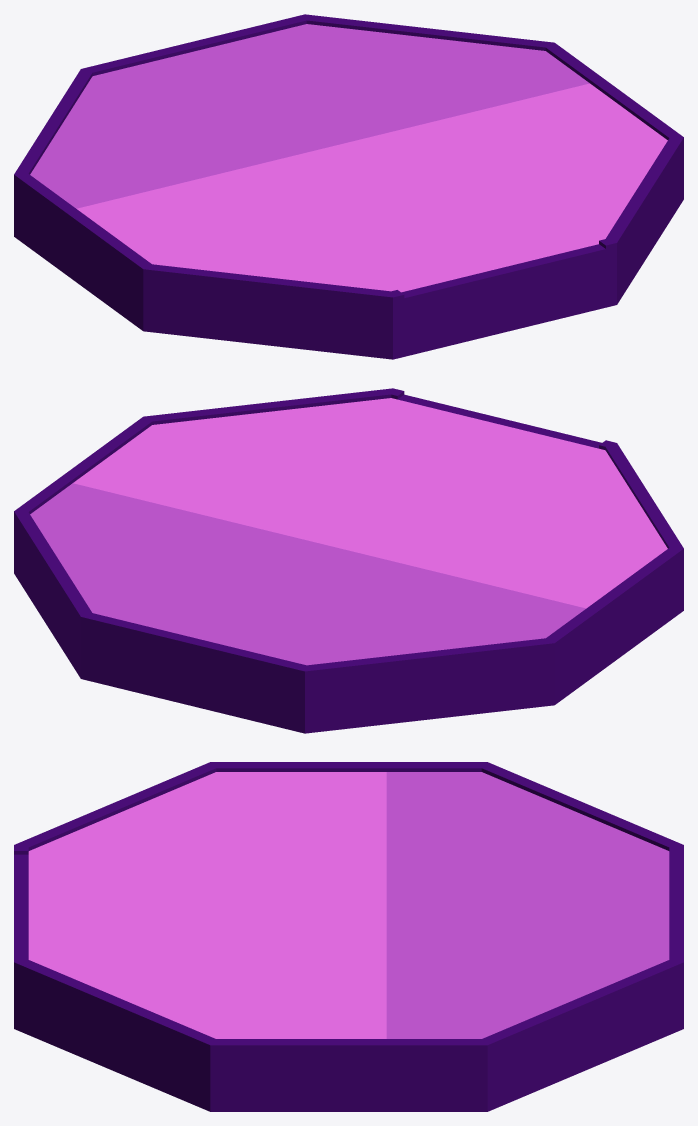
The model's file is road_pink_final.fbx.
3 renders of one model, top to bottom at view 1: azimuth 30°, elevation 25°; view 2: azimuth 150°, elevation 25°; view 3: azimuth 270°, elevation 25°, orthographic. The views are drawn at different scales.
Visible parts, largest first — view 1: road_pink_final; view 2: road_pink_final; view 3: road_pink_final.
Part boxes in pixels (x1,y1,x2,y2): road_pink_final: (14,14,683,359); road_pink_final: (14,388,683,733); road_pink_final: (14,762,683,1111).
Bounding box in the file's own units: 4.83 × 0.5304 × 4.83.
